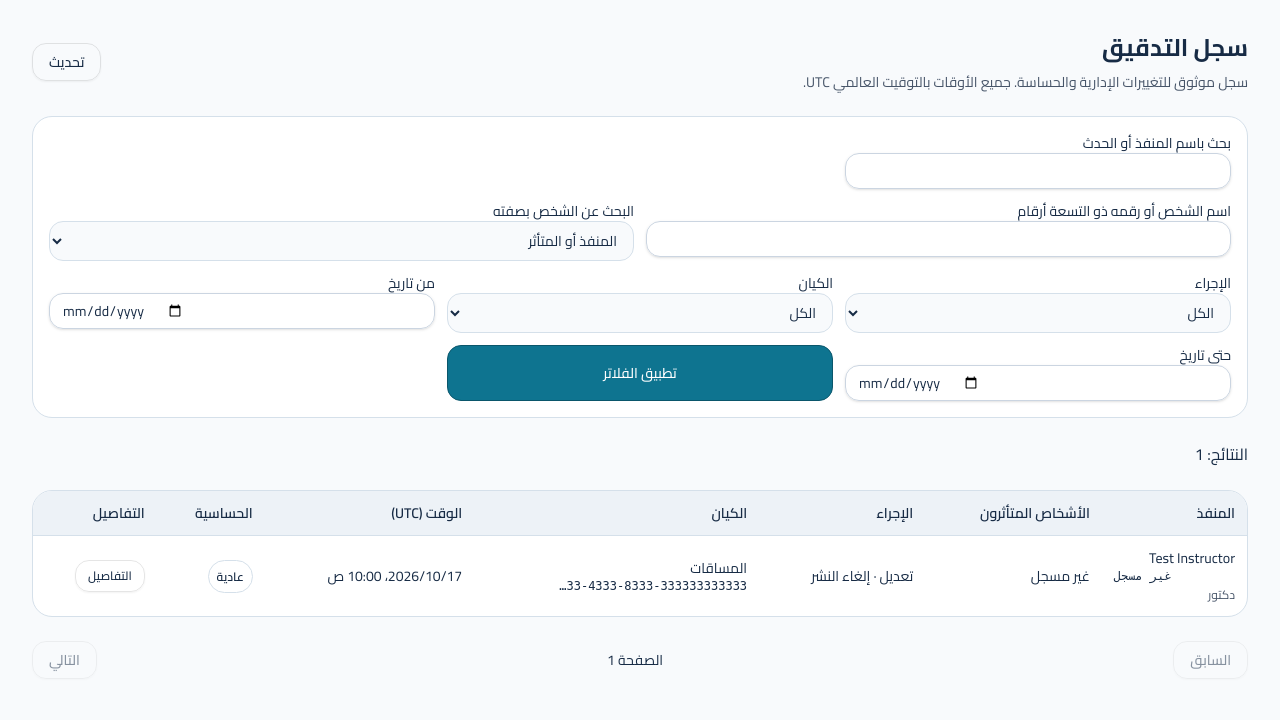
Scenario: audit review UI › validates user/date filters and renders Arabic with RTL
Expected: the text "Test Instructor" is shown, [1149,545,1235,571]
In the date field labelled "من تاريخ": {"x": 242, "y": 311} [49,293,435,329], type "2026-12-01"
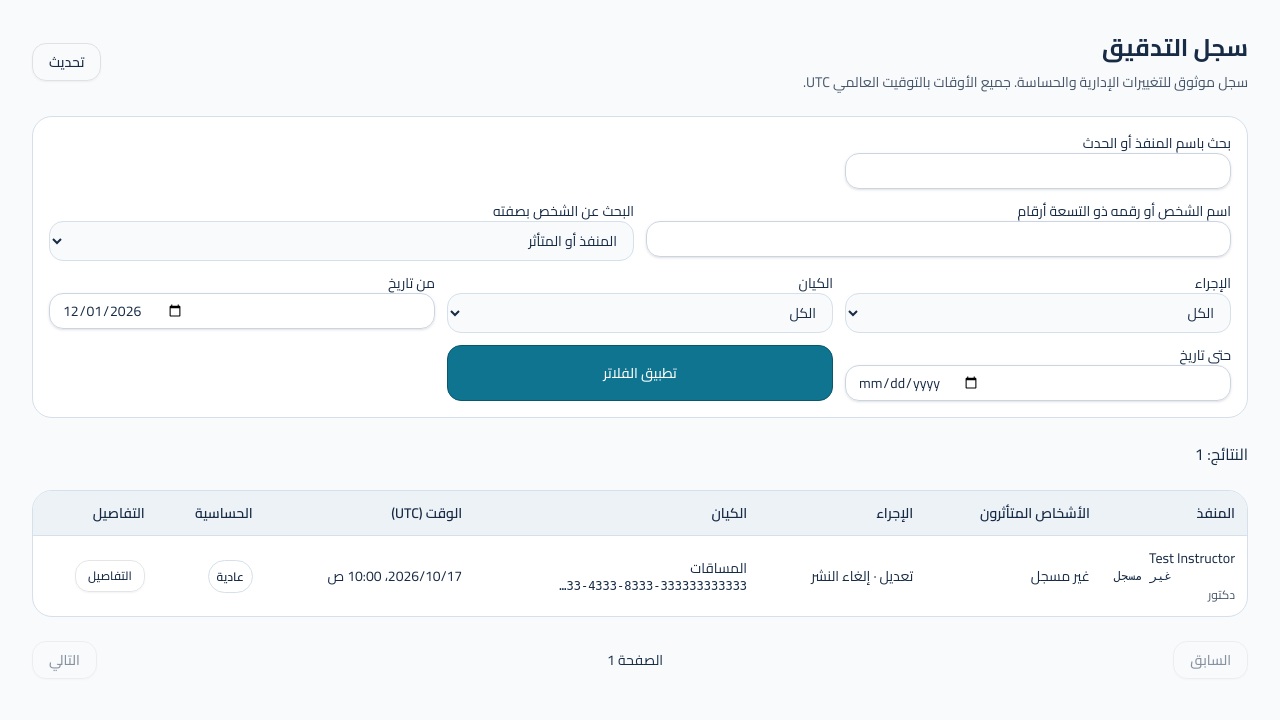
In the date field labelled "حتى تاريخ": {"x": 1038, "y": 383} [845,365,1231,401], type "2026-01-01"
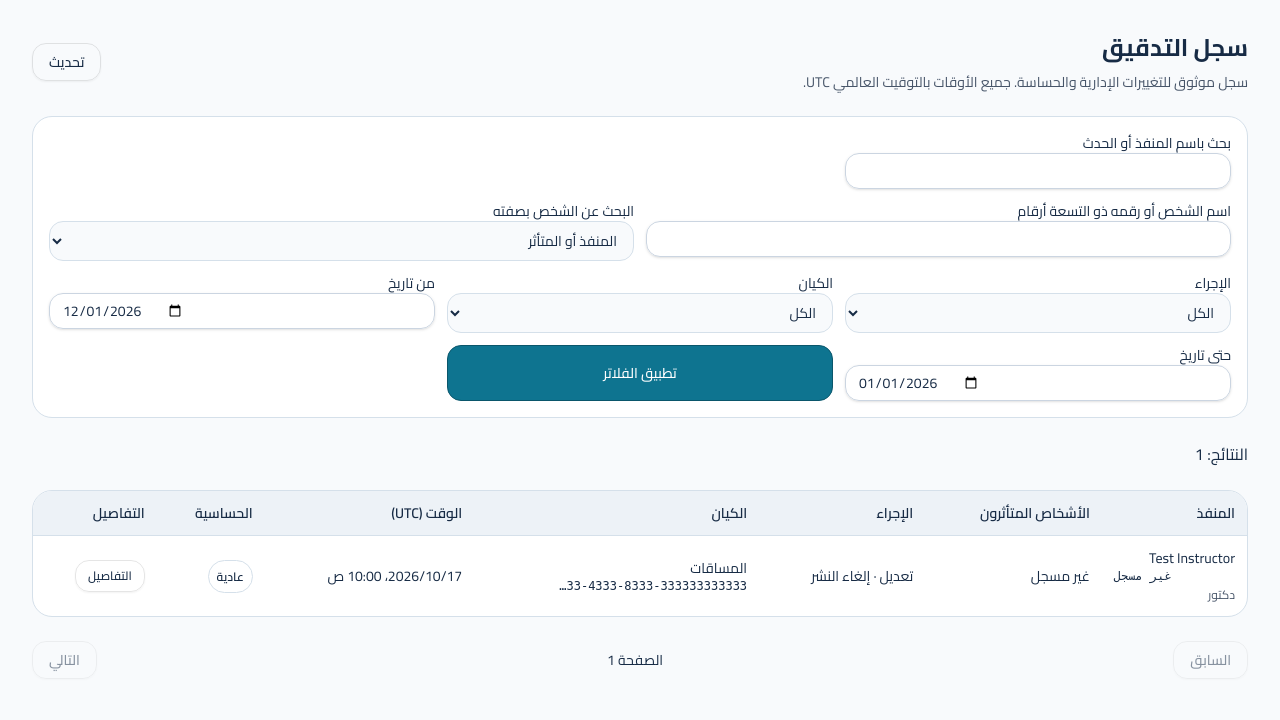
Click the button "تطبيق الفلاتر": {"x": 640, "y": 373} [447,345,833,401]
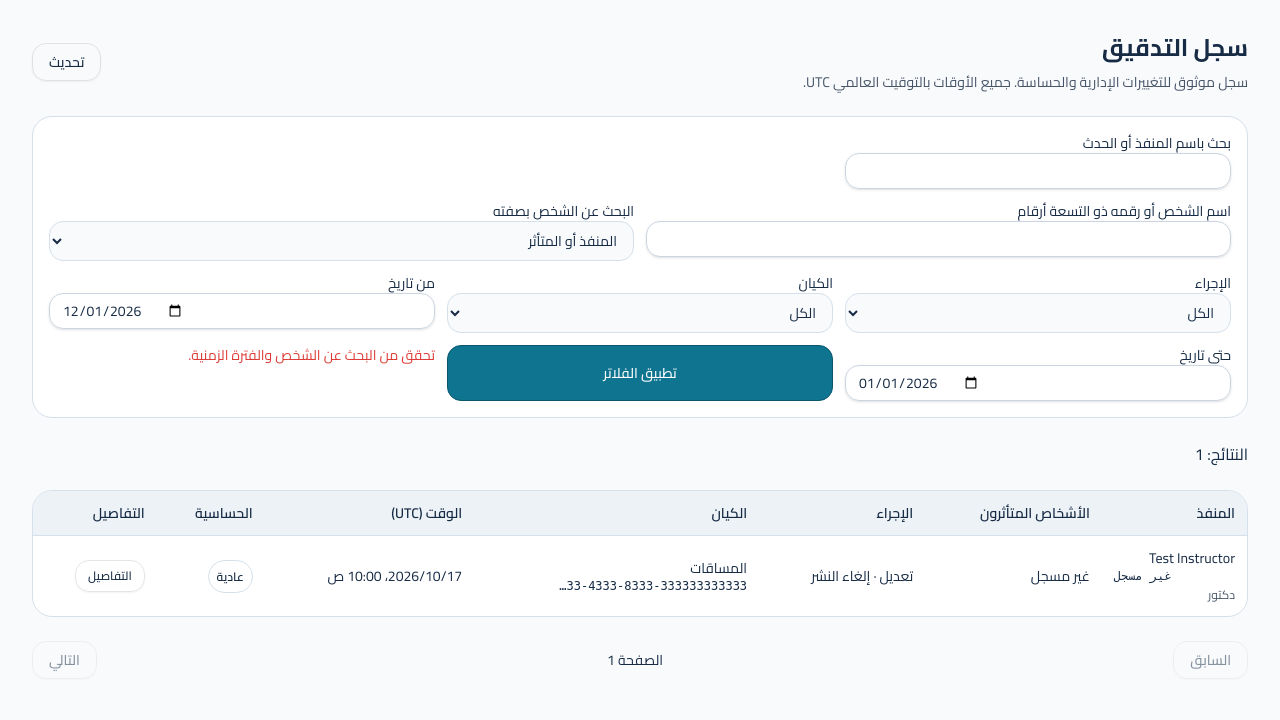
Result: the message "تحقق من البحث عن الشخص والفترة الزمنية." is shown at [188,342,435,368]
